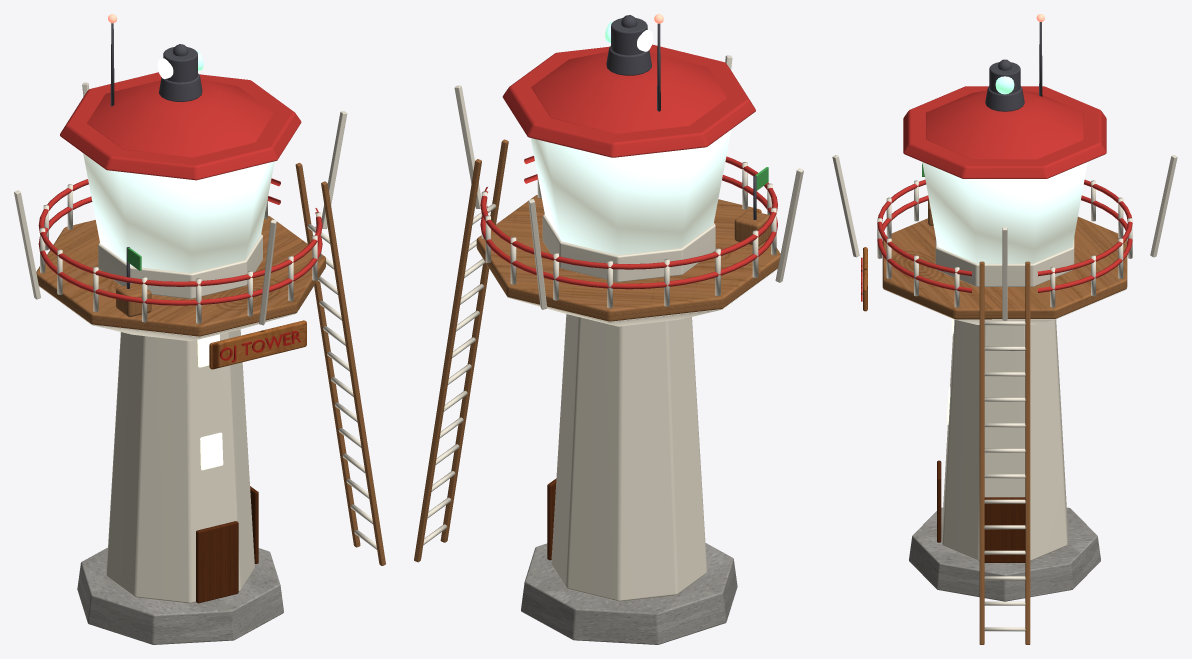
Rendered from tower.glb.
3 renders of one model, left to right at view 1: azimuth 30°, elevation 25°; view 2: azimuth 150°, elevation 25°; view 3: azimuth 270°, elevation 25°, orthographic. The views are drawn at different scales.
Visible parts, largest first — view 1: shaft, cab_glass, deck, plinth, roof_cap, roof, cab_base, door.001, ladder_rail, signboard, ladder_rail.001, rail (+10 smaller); view 2: shaft, cab_glass, deck, plinth, roof_cap, roof, cab_base, ladder_rail.001, ladder_rail, rail, rail.001, beacon_drum (+7 smaller); view 3: shaft, cab_glass, deck, roof_cap, plinth, roof, cab_base, door, ladder_rail, ladder_rail.001, rail, rail.001 (+5 smaller).
Boxes of the visible parts, <box> form: shaft: <box>106,329,254,603</box>; cab_glass: <box>83,153,274,272</box>; deck: <box>36,215,325,336</box>; plinth: <box>77,547,283,644</box>; roof_cap: <box>87,79,273,157</box>; roof: <box>60,72,301,180</box>; cab_base: <box>98,234,262,298</box>; door.001: <box>196,521,238,603</box>; ladder_rail: <box>321,181,385,565</box>; signboard: <box>209,320,306,369</box>; ladder_rail.001: <box>295,163,360,547</box>; rail: <box>38,178,322,286</box>; shaft: <box>551,314,706,601</box>; cab_glass: <box>530,129,731,255</box>; deck: <box>476,195,780,321</box>; plinth: <box>521,543,737,644</box>; roof_cap: <box>531,52,726,133</box>; roof: <box>502,44,755,157</box>; cab_base: <box>542,214,715,282</box>; ladder_rail.001: <box>414,159,481,562</box>; ladder_rail: <box>440,139,508,542</box>; rail: <box>480,156,777,269</box>; rail.001: <box>480,174,777,289</box>; beacon_drum: <box>611,18,647,55</box>; shaft: <box>942,319,1067,560</box>; cab_glass: <box>922,162,1087,263</box>; deck: <box>882,216,1127,319</box>; roof_cap: <box>926,90,1083,159</box>; plinth: <box>909,507,1100,601</box>; roof: <box>903,86,1106,178</box>; cab_base: <box>935,237,1074,286</box>; door: <box>984,497,1025,562</box>; ladder_rail: <box>979,261,984,644</box>; ladder_rail.001: <box>1025,261,1030,644</box>; rail: <box>877,179,1132,276</box>; rail.001: <box>877,195,1132,292</box>.
Bounding box in the file's own units: 5.19 × 8.11 × 4.82.
Materials: 15 (4 with a texture image).
